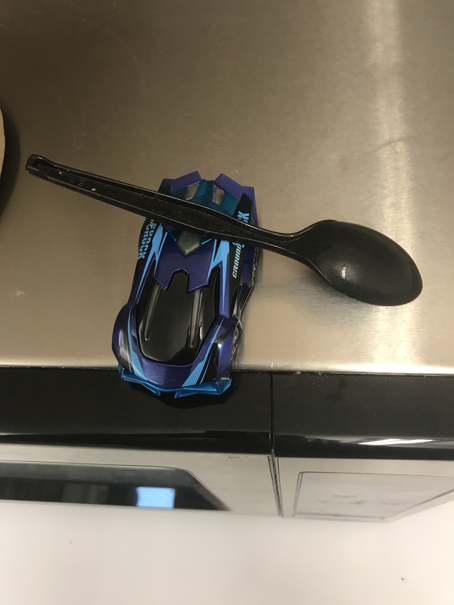Shock: (110, 170, 263, 401)
